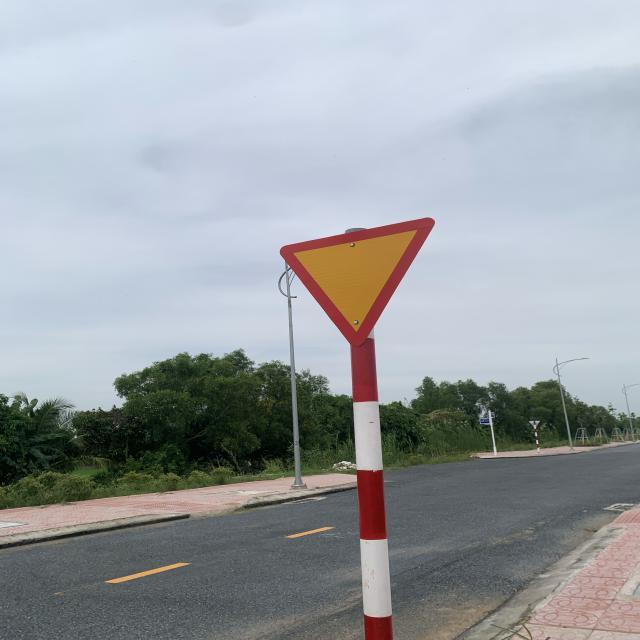Gioi_Han_Toc_Do_25: (278, 216, 436, 348)
